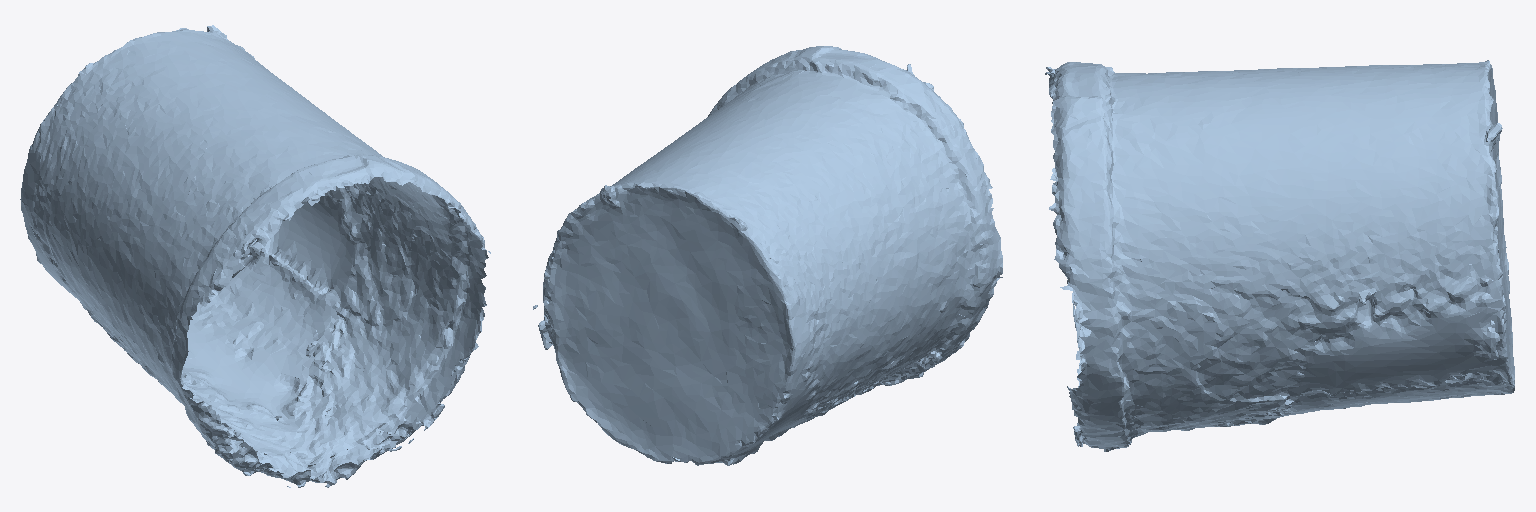
robot.urdf — trashbin.urdf:
<?xml version="1.0" ?>
<robot name="trashbin.urdf">
  <dynamics damping="0.5" friction="0.9"/>
  <link name="baseLink">
    <contact>
      <lateral_friction value="0.9"/>
      <rolling_friction value="0.5"/>
      <stiffness value="30000"/>
      <damping value="1000"/>
    </contact>
    <visual>
      <origin rpy="0 0 0" xyz="0 0 0"/>
      <geometry>
        <mesh filename="objects/trashbin/trashbin.obj" scale="1.0 1.0 1.0"/>
      </geometry>
       <material name="mat">
        <color rgba="0.7 0.8 0.9 1"/>
      </material>
    </visual>
    <collision>
      <origin rpy="0 0 0" xyz="0 0 0"/>
      <geometry>
         <mesh filename="objects/trashbin/trashbin.obj" scale="1.0 1.0 1.0"/>
      </geometry>
    </collision>
  </link>
</robot>

--- What the picture shows (computed from the rendered views, not written in the file) ---
The picture shows the robot from 3 angles, left to right: view 1: azimuth 30°, elevation 25°; view 2: azimuth 150°, elevation 25°; view 3: azimuth 270°, elevation 25°; orthographic projection.
Model trashbin.urdf with 1 links and 0 joints (none), rooted at baseLink, posed all joints at 0.
Visible links, largest first — view 1: baseLink; view 2: baseLink; view 3: baseLink.
Link boxes in pixels (x1,y1,x2,y2): baseLink: (20, 25, 490, 487); baseLink: (533, 46, 1002, 465); baseLink: (1045, 60, 1514, 451).
Size in the robot's own frame: 0.297 by 0.3566 by 0.2999 metres.
Meshes: 1 distinct files referenced, 1 mesh visuals loaded (1 OBJ).
